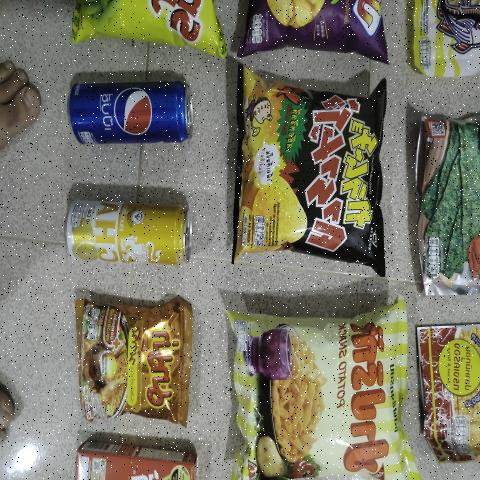karamujo: (236, 84, 384, 255)
mama: (79, 298, 181, 427)
paprika: (225, 305, 414, 476)
pepsi_blue: (67, 76, 191, 153)
singha_yellow: (64, 188, 192, 266)
